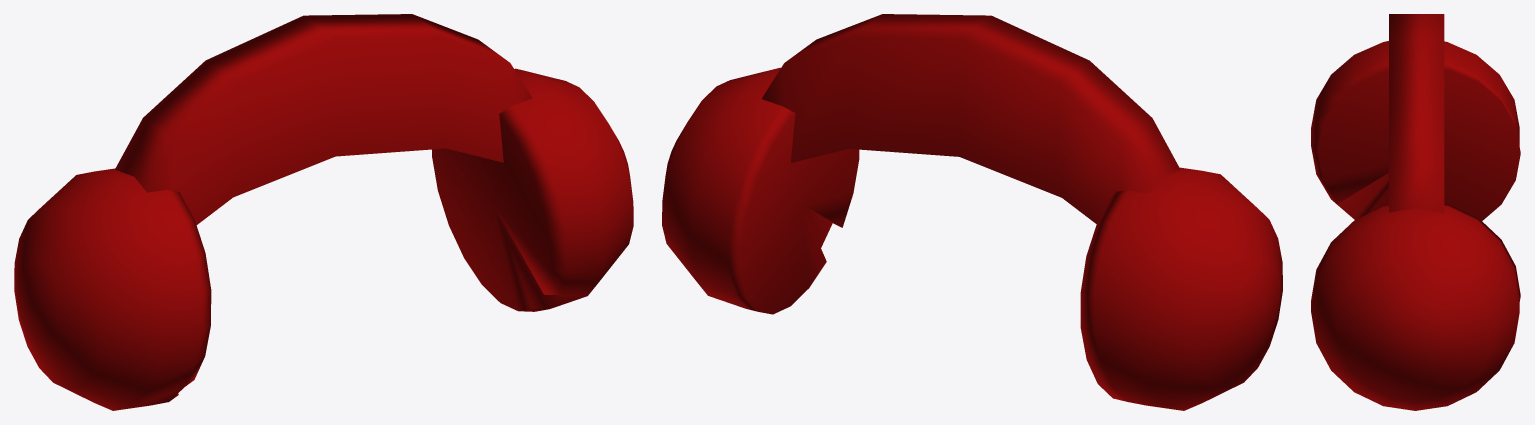
The model's file is Earmuff.fbx.
3 renders of one model, left to right at view 1: azimuth 30°, elevation 25°; view 2: azimuth 150°, elevation 25°; view 3: azimuth 270°, elevation 25°, orthographic. The views are drawn at different scales.
Parts seen in each view (by area): view 1: Earmuff; view 2: Earmuff; view 3: Earmuff.
Part boxes in pixels (x1=…): Earmuff: x1=14, y1=14, x2=633, y2=410; Earmuff: x1=662, y1=14, x2=1282, y2=410; Earmuff: x1=1311, y1=14, x2=1520, y2=410.
Bounding box in the file's own units: 1.26 × 0.6664 × 0.4542.
